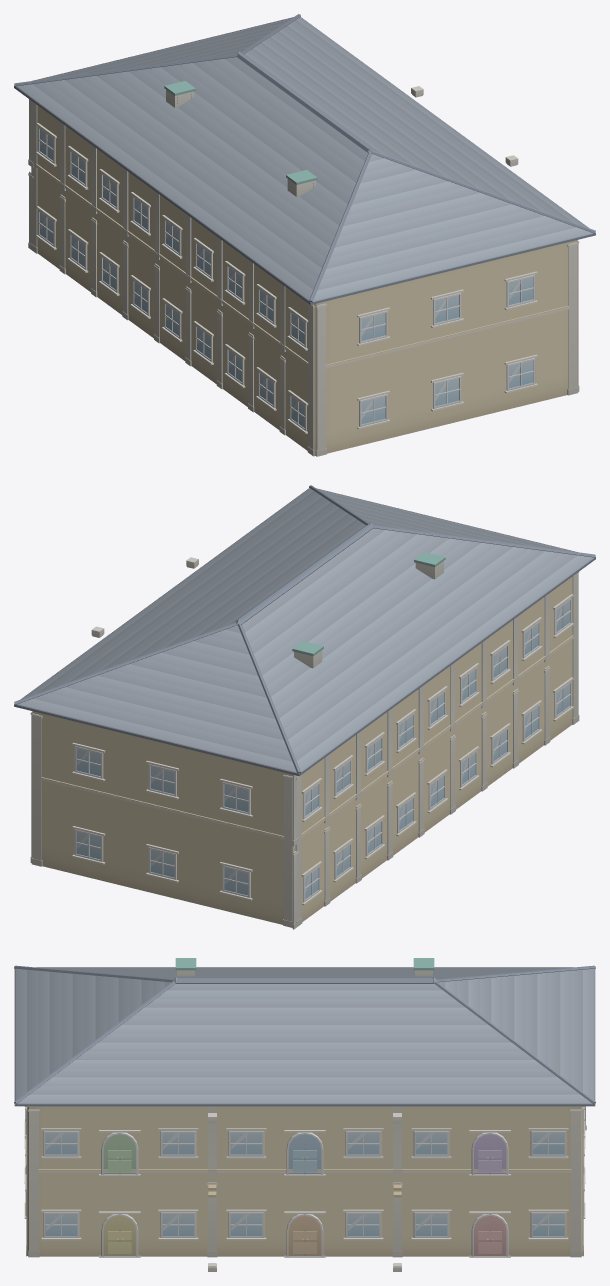
File: kelas_shell.glb
3 renders of one model, top to bottom at view 1: azimuth 30°, elevation 25°; view 2: azimuth 150°, elevation 25°; view 3: azimuth 270°, elevation 25°, orthographic. The views are drawn at different scales.
Visible parts, largest first — view 1: kelas_roof, kelas_body; view 2: kelas_roof, kelas_body; view 3: kelas_body, kelas_roof, kelas_hias.
Boxes of the visible parts, x1,y1,x2,y2 form: kelas_roof: (14, 14, 595, 304); kelas_body: (28, 99, 579, 456); kelas_roof: (14, 485, 595, 776); kelas_body: (30, 572, 579, 929); kelas_body: (24, 1106, 586, 1257); kelas_roof: (14, 958, 595, 1106); kelas_hias: (208, 1113, 401, 1271).
Bounding box in the file's own units: 17.5 × 12.04 × 29.34.
